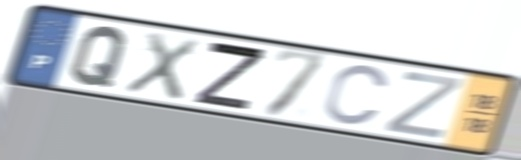7: (266, 44, 334, 122)
C: (321, 63, 393, 128)
Q: (67, 24, 132, 91)
X: (121, 28, 204, 103)
Z: (380, 69, 466, 142), (192, 38, 269, 113)
